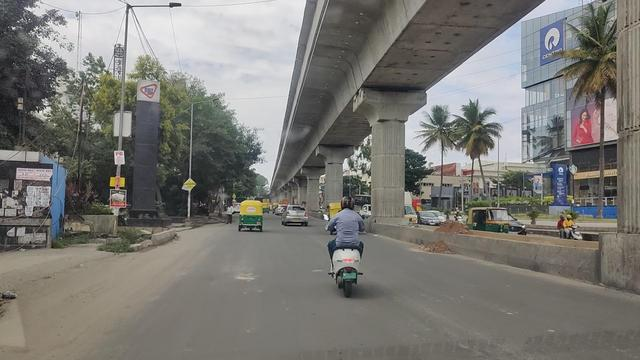LMV: (327, 190, 369, 299), (235, 199, 262, 230)
